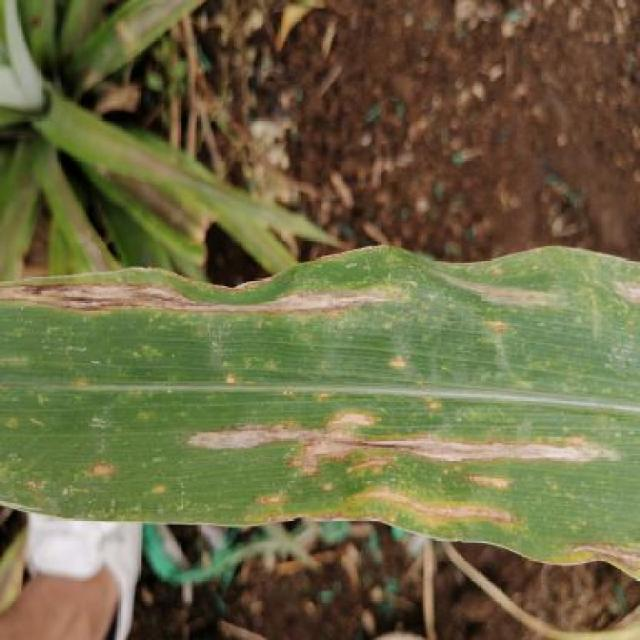Corn_Leaf_Blight: (0, 243, 640, 568)
